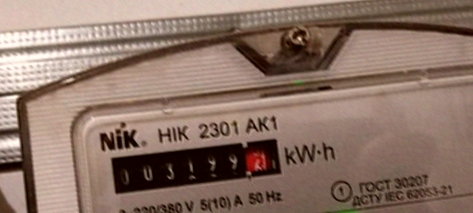0: (143, 162, 155, 182), (120, 165, 131, 184)
1: (186, 155, 197, 173)
3: (164, 160, 176, 181)
6: (253, 156, 264, 171)
9: (207, 151, 219, 172), (229, 151, 241, 170)
screen: (104, 128, 290, 201)
